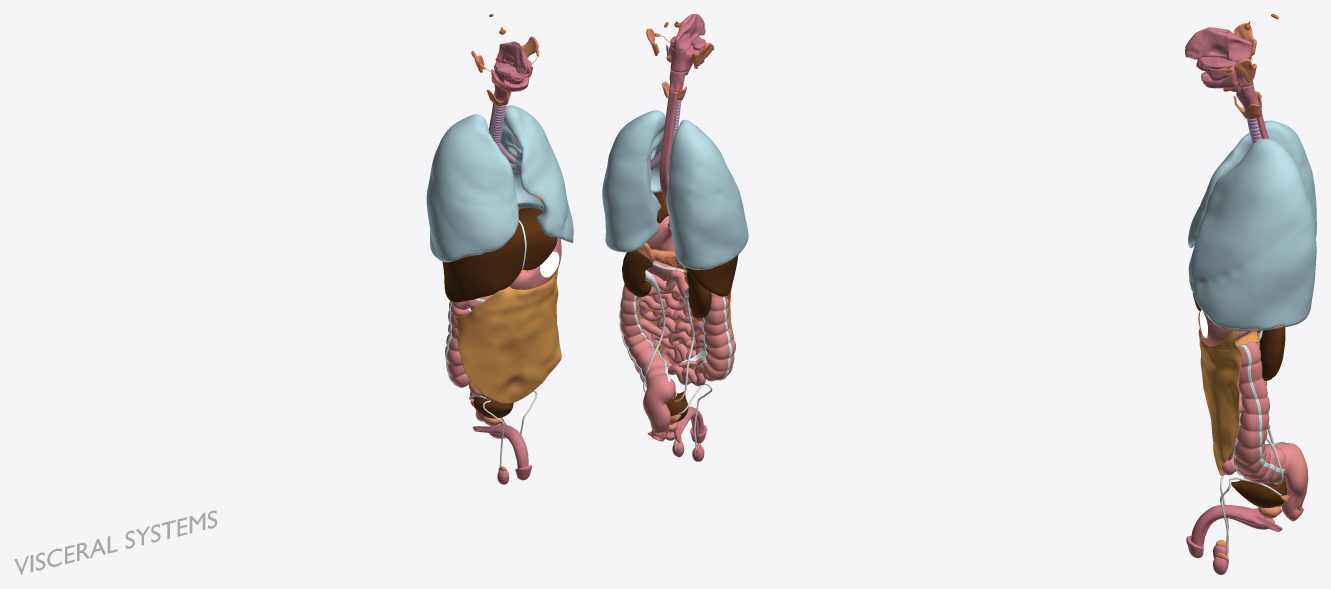
File: visceral.glb
3 views of the same model, side by side, from view 1: azimuth 30°, elevation 25°; view 2: azimuth 150°, elevation 25°; view 3: azimuth 270°, elevation 25° (orthographic). The views are drawn at different scales.
Visible parts, largest first — view 1: Pleura.001, Greater omentum.001, Liver.001, Visceral systems.g.001, Ascending colon.001, Corpus cavernosum of penis.001, Stomach.001; view 2: Pleura.001, Jejunum.001, Ascending colon.001, Descending colon.001, Sigmoid colon.001, Liver.001, Kidney.l.001, Oesophagus.001, Kidney.r.001; view 3: Pleura.001, Greater omentum.001, Descending colon.001, Sigmoid colon.001, Corpus cavernosum of penis.001, Mucosa of nasal cavity.001, Kidney.l.001, Urinary bladder.001, Gingiva.001, Mesocolic taenia.001, Nasopharynx.001, Stomach.001 (+13 smaller).
Part boxes in pixels (<box>): Pleura.001: <box>426,105,573,261</box>; Greater omentum.001: <box>454,269,561,403</box>; Liver.001: <box>442,208,557,302</box>; Visceral systems.g.001: <box>14,510,217,574</box>; Ascending colon.001: <box>445,301,470,387</box>; Corpus cavernosum of penis.001: <box>472,419,528,468</box>; Stomach.001: <box>509,238,561,289</box>; Pleura.001: <box>602,110,748,269</box>; Jejunum.001: <box>638,273,714,386</box>; Ascending colon.001: <box>703,292,735,380</box>; Descending colon.001: <box>620,284,675,398</box>; Sigmoid colon.001: <box>643,374,675,441</box>; Liver.001: <box>654,192,738,296</box>; Kidney.l.001: <box>622,250,652,297</box>; Oesophagus.001: <box>659,90,678,227</box>; Kidney.r.001: <box>686,271,711,318</box>; Pleura.001: <box>1188,120,1316,329</box>; Greater omentum.001: <box>1198,329,1242,475</box>; Descending colon.001: <box>1234,341,1286,483</box>; Sigmoid colon.001: <box>1280,443,1308,521</box>; Corpus cavernosum of penis.001: <box>1191,505,1282,546</box>; Mucosa of nasal cavity.001: <box>1185,27,1228,60</box>; Kidney.l.001: <box>1259,327,1285,380</box>; Urinary bladder.001: <box>1231,479,1286,507</box>; Gingiva.001: <box>1196,57,1236,88</box>; Mesocolic taenia.001: <box>1238,344,1284,473</box>; Nasopharynx.001: <box>1228,30,1252,61</box>; Stomach.001: <box>1198,311,1250,345</box>.
Size of the model in its own units: 1.13 by 0.8931 by 0.1926.
